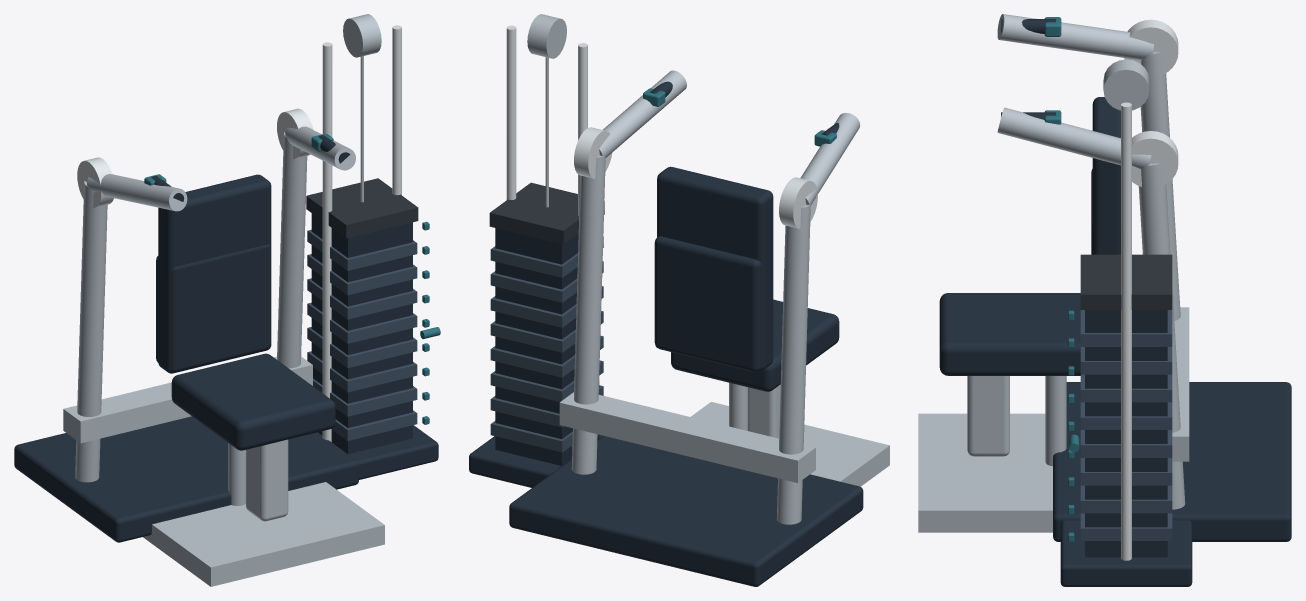
File: shoulder_press.glb
The picture shows the model from 3 angles, left to right: view 1: azimuth 30°, elevation 25°; view 2: azimuth 150°, elevation 25°; view 3: azimuth 270°, elevation 25°; orthographic projection. The views are drawn at different scales.
Parts seen in each view (by area): view 1: pressFrame, base, lumbarPad, weightPlate (×8), stack, seat, back, LpressSupport, RpressSupport, guide (×2), pivotBridge, stackLift (+7 smaller); view 2: pressFrame, lumbarPad, back, weightPlate (×8), stack, pivotBridge, LpressSupport, RpressSupport, base, seat, pressBeam (×2), stackLift (+7 smaller); view 3: pressFrame, base, seat, weightPlate (×8), stack, pressBeam (×2), stackBase, guide, stackLift, RpressSupport, back, seatAdjustment (+5 smaller).
Boxes of the visible parts, x1,y1,x2,y2 form: pressFrame: (14, 416, 358, 542); base: (143, 482, 384, 586); lumbarPad: (156, 244, 270, 372); weightPlate (×8): (307, 229, 417, 440); stack: (311, 213, 412, 454); seat: (171, 353, 335, 450); back: (158, 174, 271, 373); LpressSupport: (75, 181, 107, 482); RpressSupport: (277, 132, 307, 368); guide (×2): (322, 25, 401, 441); pivotBridge: (63, 356, 312, 443); stackLift: (306, 178, 418, 238); pressFrame: (509, 436, 863, 586); lumbarPad: (654, 236, 761, 371); back: (657, 166, 773, 370); weightPlate (×8): (490, 236, 603, 452); stack: (495, 228, 599, 465); pivotBridge: (559, 392, 815, 482); LpressSupport: (776, 204, 810, 524); RpressSupport: (571, 155, 605, 474); base: (691, 402, 889, 486); seat: (671, 299, 839, 391); pressBeam (×2): (599, 70, 860, 205); stackLift: (489, 182, 604, 244); pressFrame: (1053, 382, 1291, 541); base: (918, 413, 1052, 532); seat: (939, 293, 1080, 375); weightPlate (×8): (1080, 310, 1172, 540); stack: (1085, 310, 1167, 557); pressBeam (×2): (997, 14, 1154, 168); stackBase: (1060, 520, 1192, 586); guide: (1121, 102, 1131, 560); stackLift: (1080, 254, 1172, 309); RpressSupport: (1138, 163, 1185, 509); back: (1092, 97, 1120, 254); seatAdjustment: (967, 376, 1009, 456).
Size of the model in its own units: 1.42 by 1.83 by 1.22.
